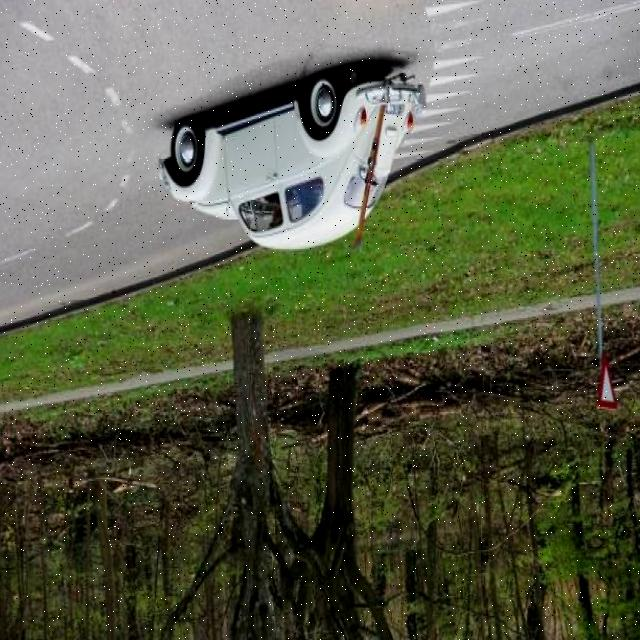car: (163, 70, 423, 252)
